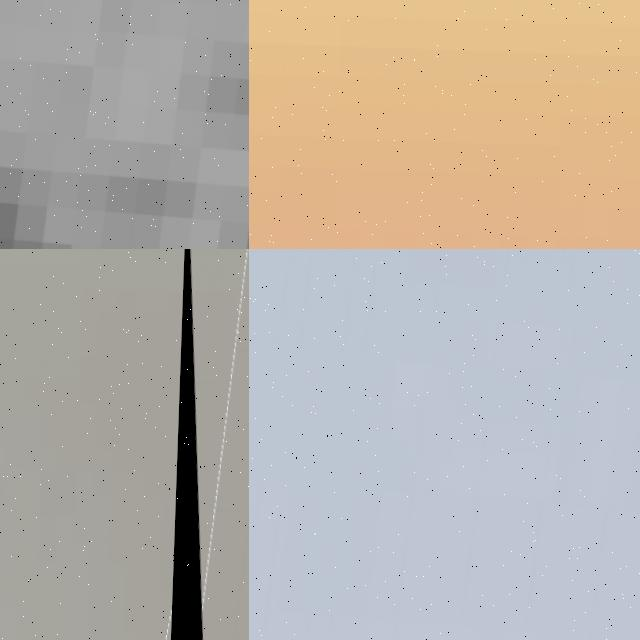drone: (249, 249, 640, 640), (0, 0, 249, 249), (165, 249, 249, 640)
